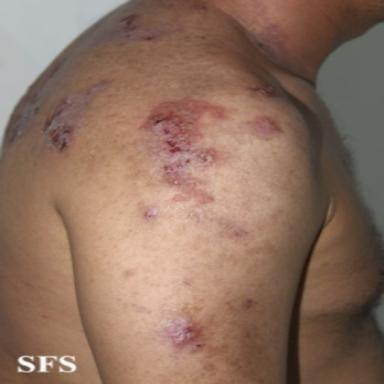Hailey-Hailey-Disease: (5, 0, 177, 153), (137, 98, 225, 204), (42, 81, 109, 152), (161, 315, 203, 349), (245, 115, 283, 139), (247, 81, 281, 97)
